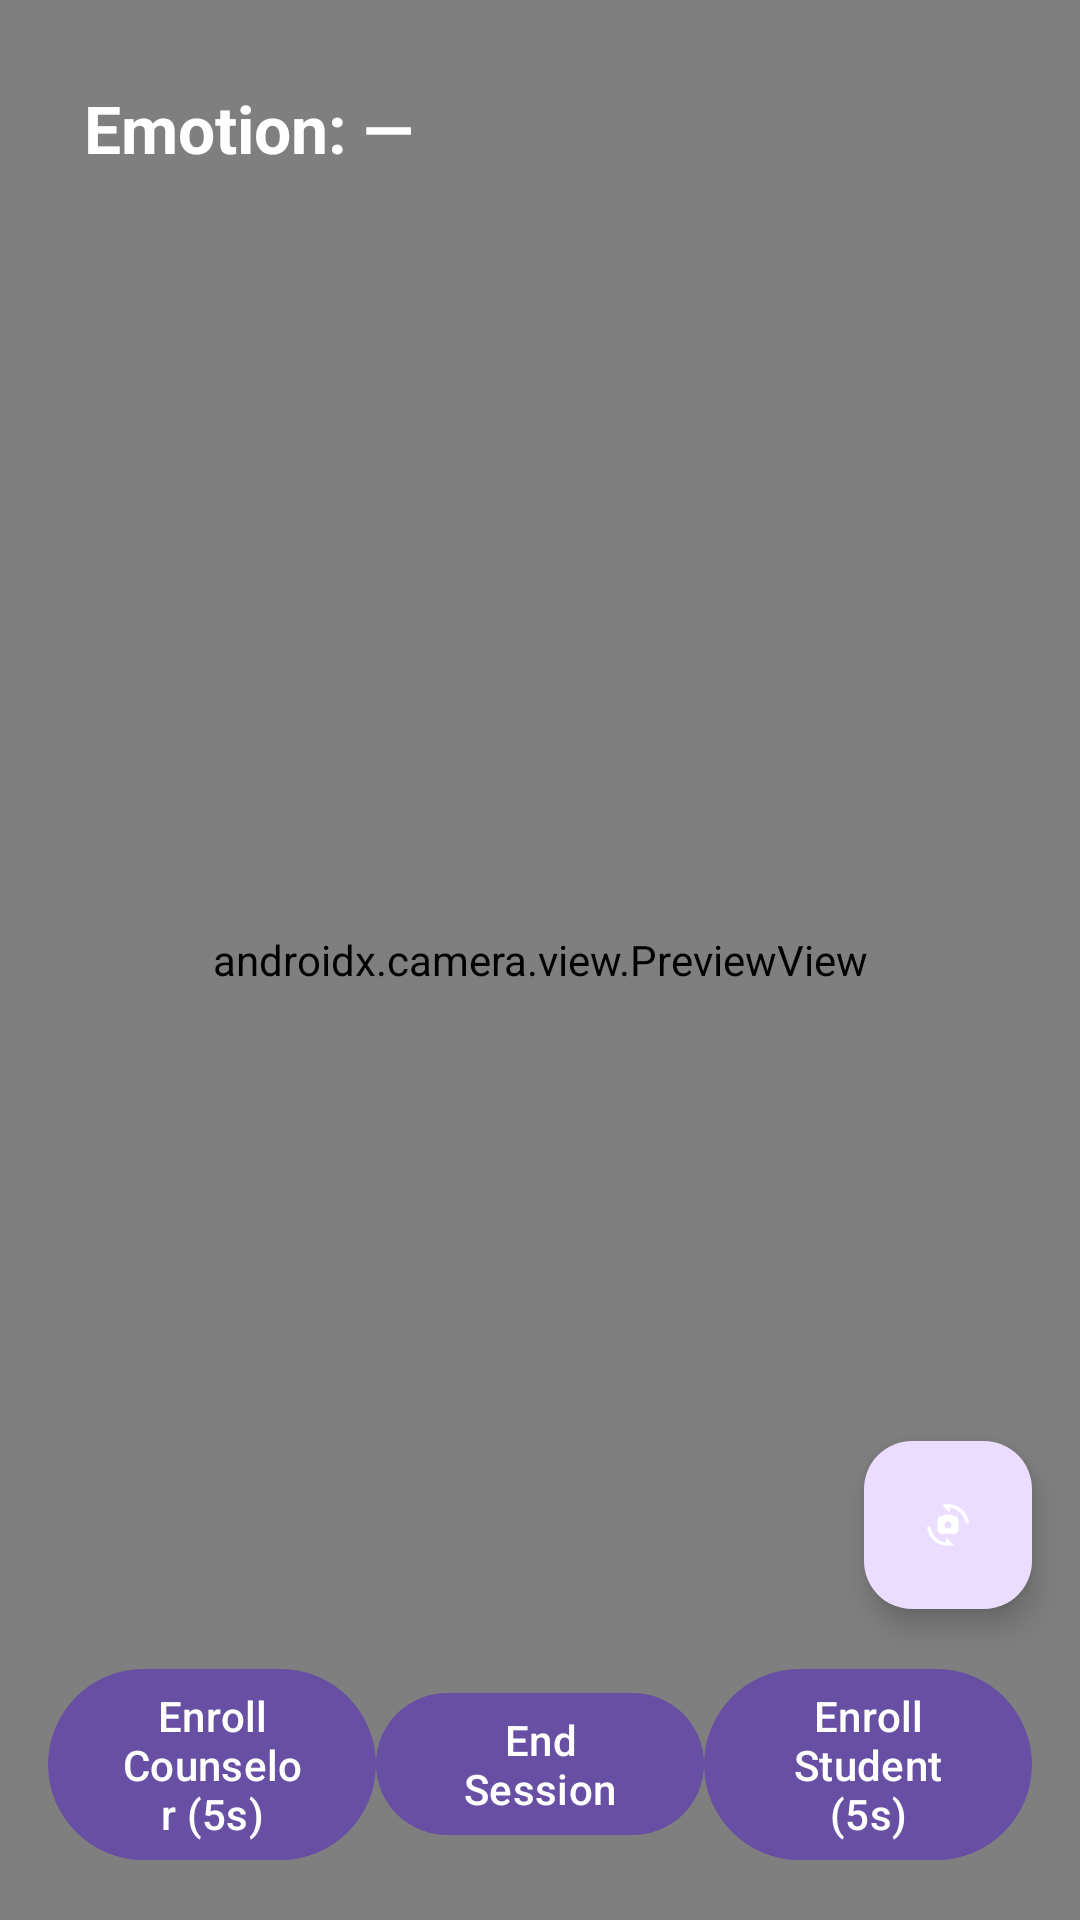

Locate icon controls on the screen. Image size 1080 × 1920, boxes as (x1, y1, x2, y2).
Switch camera: (864, 1441, 1032, 1609)
